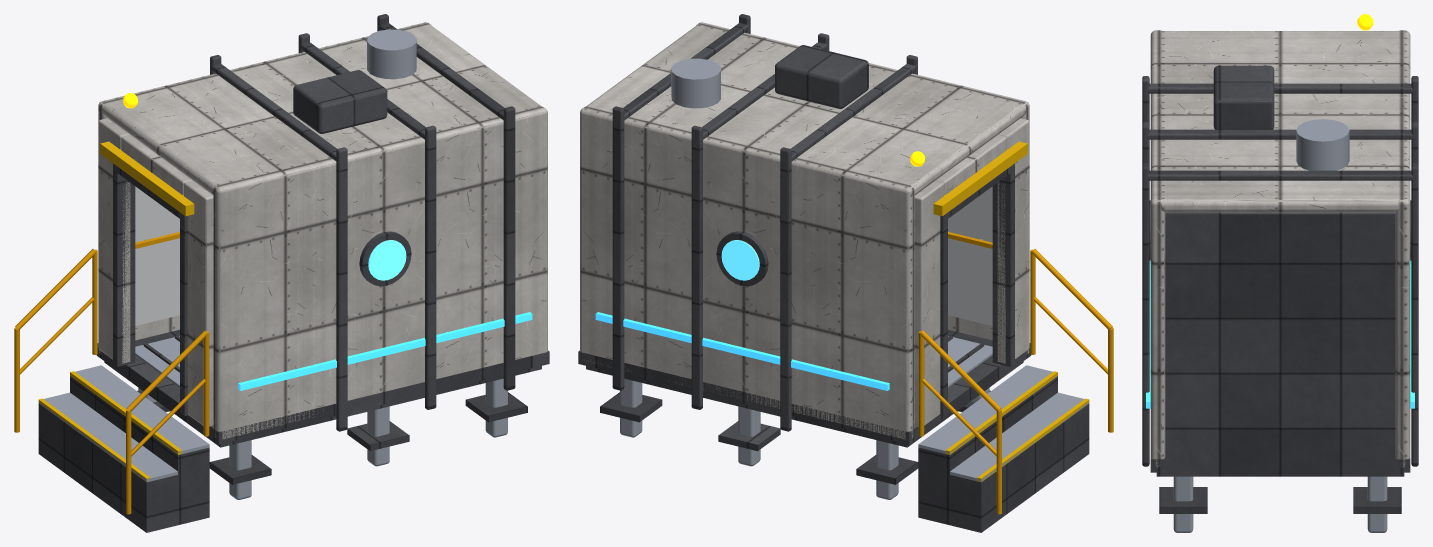
File: Connector.glb
3 renders of one model, left to right at view 1: azimuth 30°, elevation 25°; view 2: azimuth 150°, elevation 25°; view 3: azimuth 270°, elevation 25°, orthographic. The views are drawn at different scales.
Visible parts, largest first — view 1: SUI_Connector_Mesh; view 2: SUI_Connector_Mesh; view 3: SUI_Connector_Mesh.
Part boxes in pixels (box(x1,y1,x2,y2)): SUI_Connector_Mesh: box(14, 14, 549, 532); SUI_Connector_Mesh: box(578, 14, 1113, 532); SUI_Connector_Mesh: box(1142, 14, 1418, 532).
Bounding box in the file's own units: 4.25 × 3.52 × 2.28.
10 materials, 2 textured.
